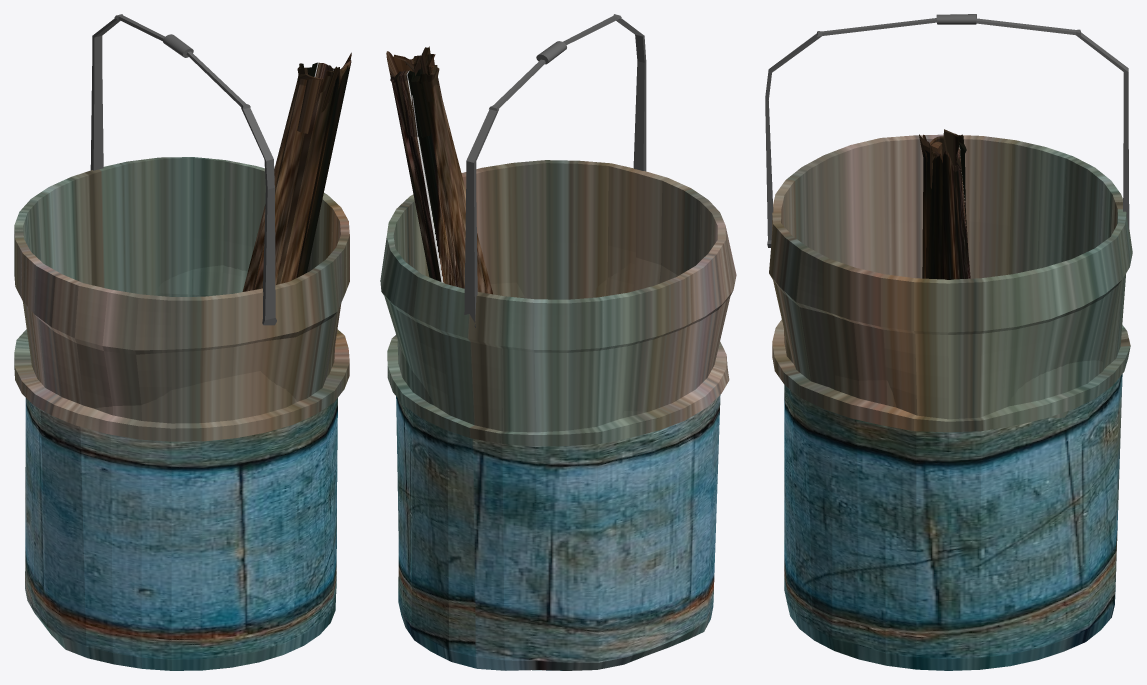
File: PRP_Bucket.fbx
3 views of the same model, side by side, from view 1: azimuth 30°, elevation 25°; view 2: azimuth 150°, elevation 25°; view 3: azimuth 270°, elevation 25° (orthographic). The views are drawn at different scales.
Visible parts, largest first — view 1: Bucket; view 2: Bucket; view 3: Bucket.
Boxes of the visible parts, x1,y1,x2,y2 form: Bucket: (14,14,351,670); Bucket: (380,14,736,670); Bucket: (765,14,1132,670).
Size of the model in its own units: 1.49 by 2.52 by 1.43.
Materials: 3 (2 with a texture image).
